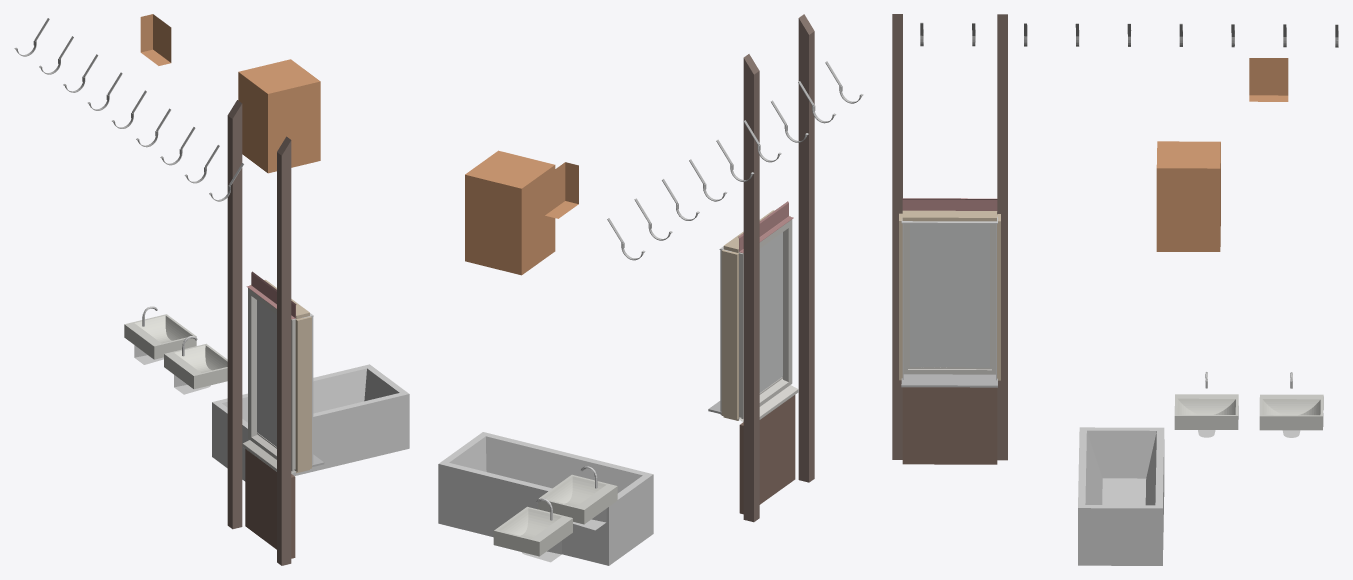
3 views of the same model, side by side, from view 1: azimuth 30°, elevation 25°; view 2: azimuth 150°, elevation 25°; view 3: azimuth 270°, elevation 25° (orthographic). The views are drawn at different scales.
Bounding box in the file's own units: 3.15 × 4.64 × 4.21.
